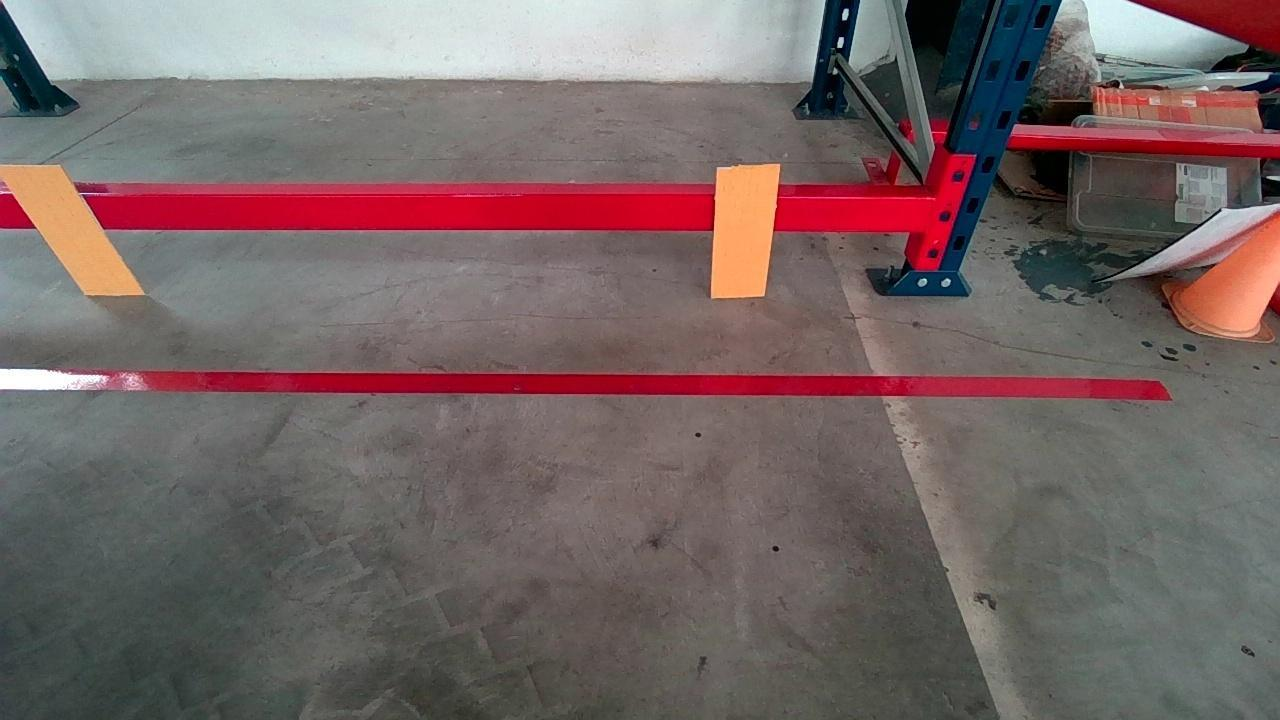h_rack: (10, 187, 939, 235)
orange_strip: (5, 168, 143, 296), (711, 165, 778, 298)
red_line: (0, 367, 1171, 399)
